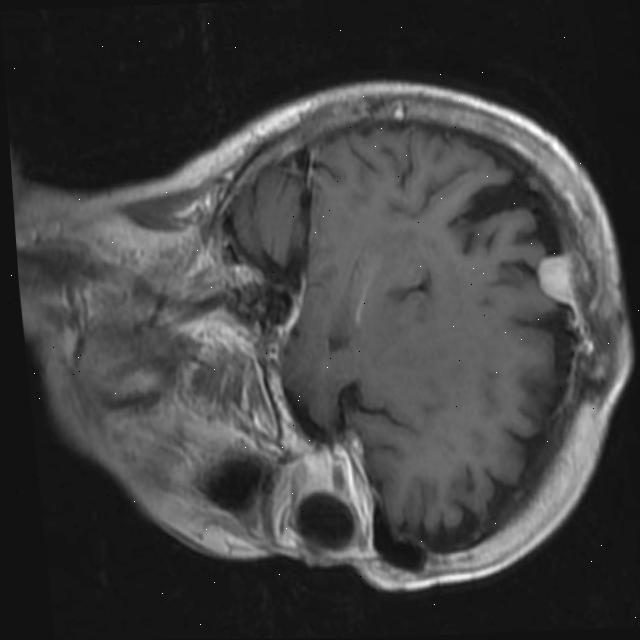Meningioma: (531, 250, 581, 308)
